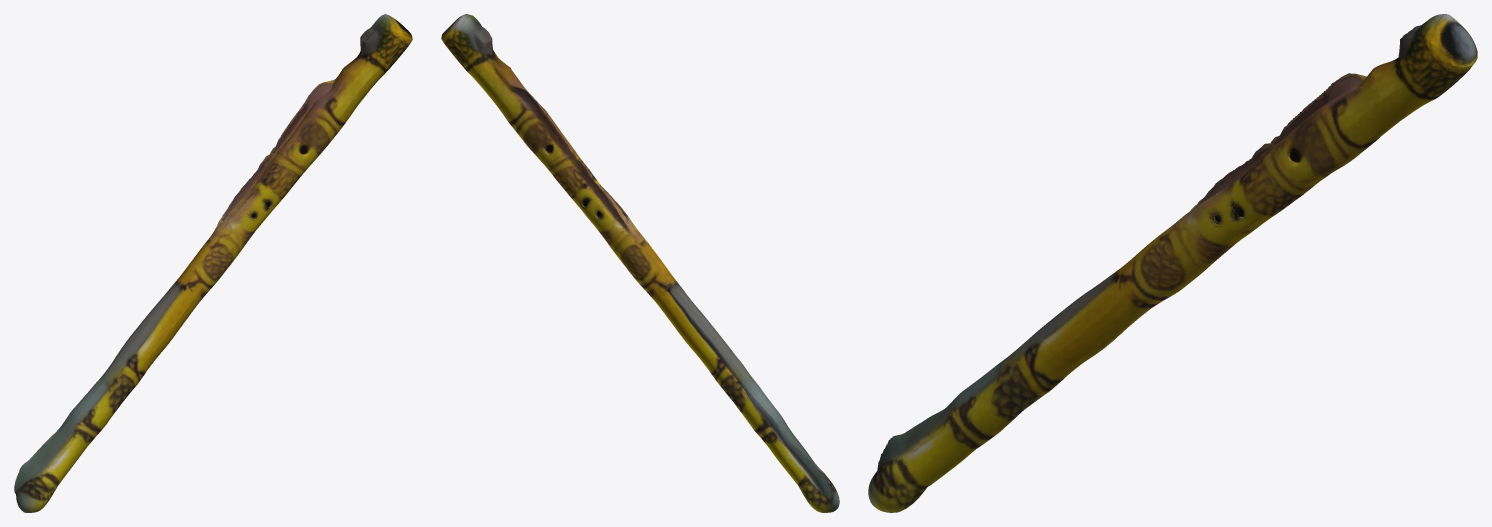
Rendered from Saluang.glb.
3 renders of one model, left to right at view 1: azimuth 30°, elevation 25°; view 2: azimuth 150°, elevation 25°; view 3: azimuth 330°, elevation 25°, orthographic. The views are drawn at different scales.
Visible parts, largest first — view 1: mesh; view 2: mesh; view 3: mesh.
Boxes of the visible parts, x1,y1,x2,y2 form: mesh: (14,14,412,512); mesh: (441,14,839,512); mesh: (868,14,1477,512).
Size of the model in its own units: 1 by 0.9942 by 0.0789.
Materials: 1 (1 with a texture image).
